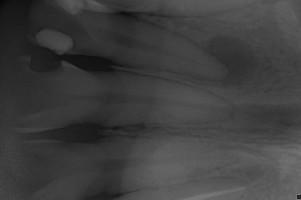Furcation Involvement: (203, 36, 254, 85)
